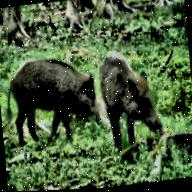boar: (0, 51, 106, 153), (96, 39, 169, 152)
